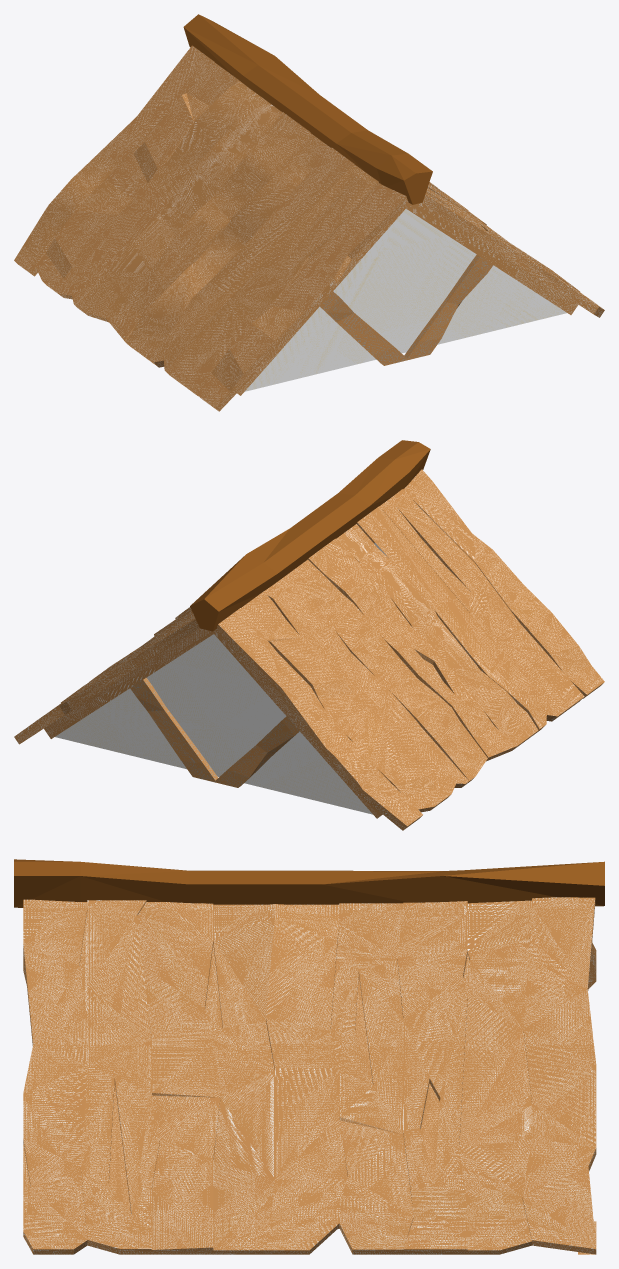
File: Roof2.fbx
3 views of the same model, one above another, from view 1: azimuth 30°, elevation 25°; view 2: azimuth 150°, elevation 25°; view 3: azimuth 270°, elevation 25° (orthographic). The views are drawn at different scales.
Visible parts, largest first — view 1: Roof1, G_18_1, G_99_1, G_98_1; view 2: Roof1, G_18_1, G_98_2, G_99_2; view 3: Roof1, G_18_1.
Part boxes in pixels (x1,y1,x2,y2): Roof1: (14,45,604,411); G_18_1: (183,14,432,204); G_99_1: (404,254,493,360); G_98_1: (320,291,406,365); Roof1: (14,469,604,830); G_18_1: (190,440,430,631); G_98_2: (130,678,218,782); G_99_2: (215,715,299,787); Roof1: (23,897,596,1254); G_18_1: (14,859,604,907).
Bounding box in the file's own units: 3348 × 1600 × 3217.
